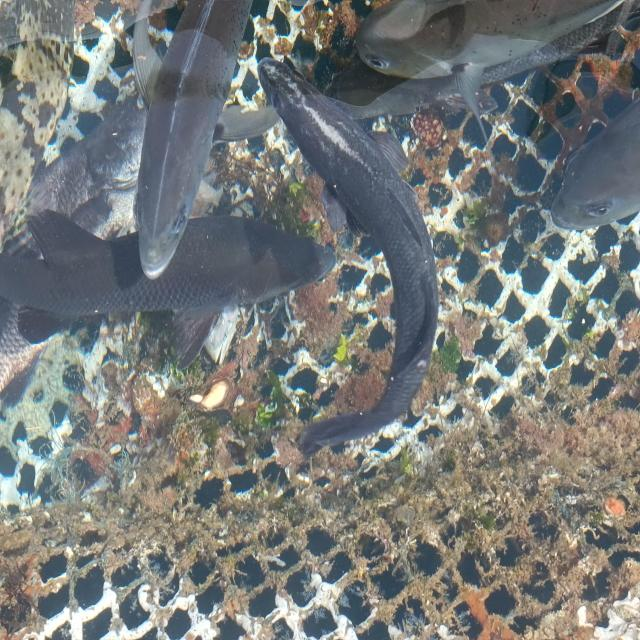ikan: (255, 54, 439, 460), (0, 206, 337, 372), (325, 0, 631, 150), (126, 0, 272, 281), (353, 0, 625, 81), (0, 0, 77, 255), (549, 90, 639, 232)
